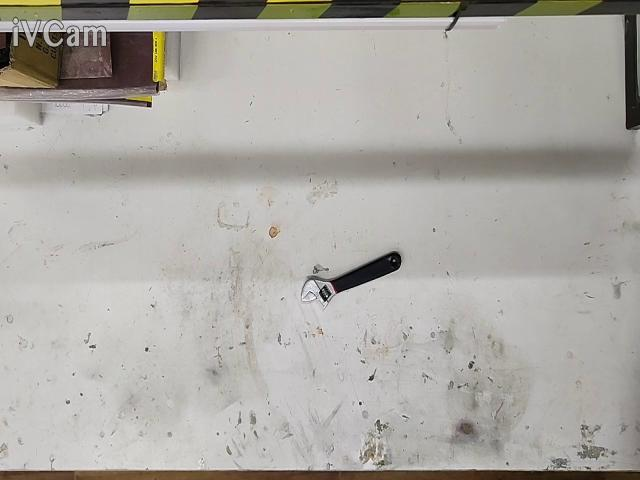Adjustable spanner: (301, 252, 401, 308)
